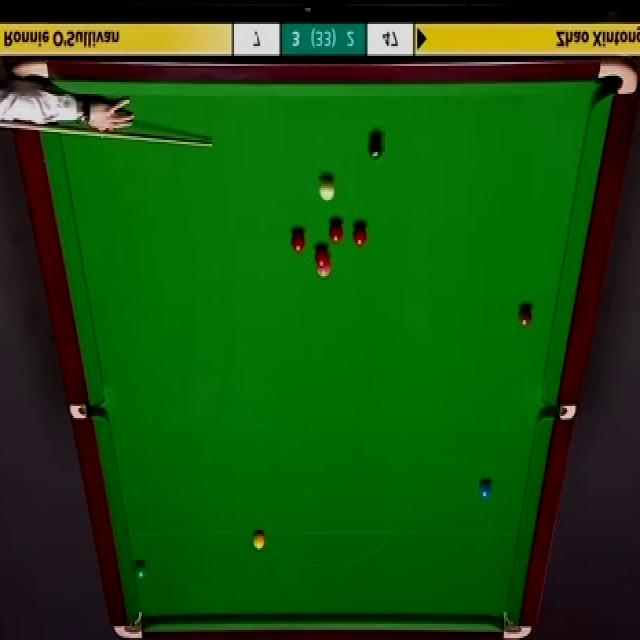pocket: (598, 57, 638, 96), (7, 61, 50, 84), (112, 610, 144, 640), (502, 608, 533, 638), (70, 400, 104, 419), (542, 399, 576, 418)
